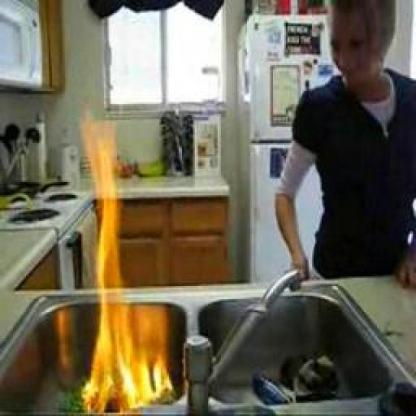fire: (77, 104, 170, 412)
